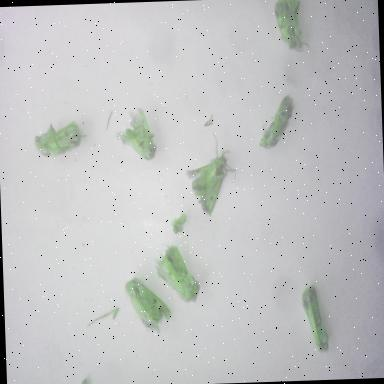abw: (180, 128, 240, 221), (151, 235, 200, 306), (122, 272, 174, 338), (110, 102, 160, 166), (30, 112, 90, 160), (296, 278, 332, 356), (254, 89, 298, 152), (272, 0, 313, 55)
